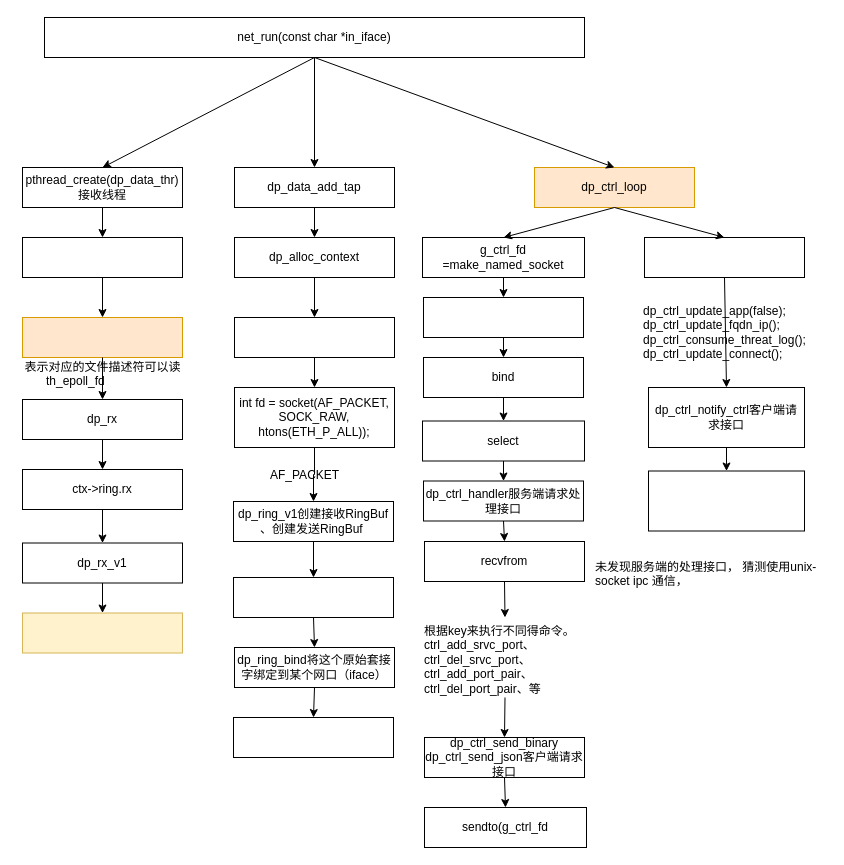
The diagram is 844 pixels wide and 865 high, and some of its shapes have lost their labels. The box of each missing label's shape, as (x1, y1, x2, y2) in pixels:
dp_data_thr: (22, 236, 182, 278)
dp_epoll_add_ctx: (232, 716, 394, 758)
dp_open_socket: (234, 316, 394, 358)
dpi_init: (22, 316, 182, 358)
dpi_recv_packet: (22, 612, 182, 653)
g_ctrl_notify_fd = make_notify_client: (644, 236, 804, 278)
sendto(g_ctrl_notify_fd: (648, 470, 804, 531)
socket: (422, 296, 584, 338)
创建 ring->rx_map: (232, 576, 394, 618)
